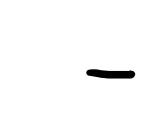minus: (86, 66, 136, 79)
